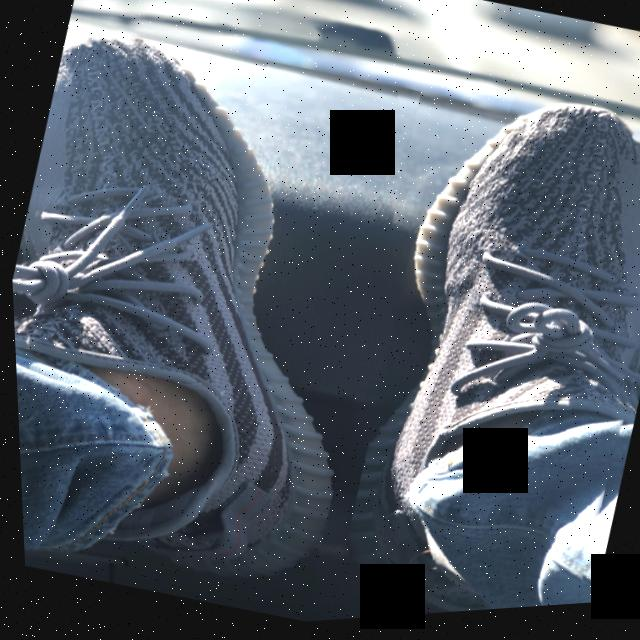shoe: (1, 3, 437, 622), (310, 73, 640, 624)
